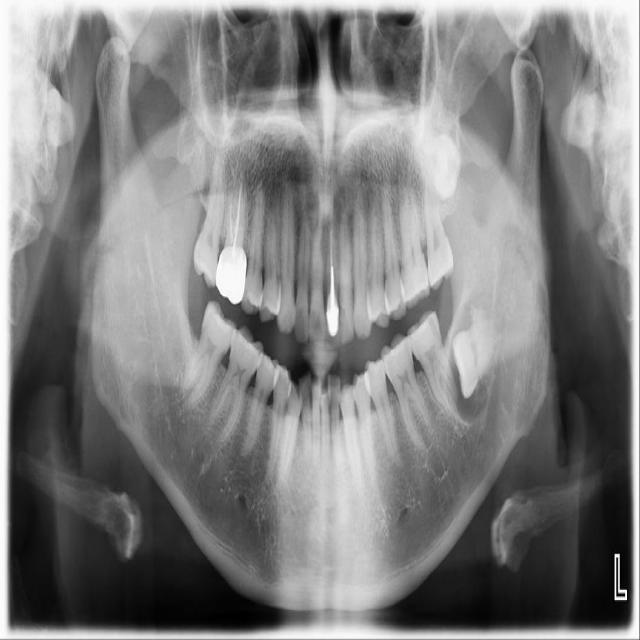52: (213, 246, 250, 304), (325, 294, 340, 347)
73: (223, 173, 252, 252), (325, 226, 338, 301), (610, 557, 616, 568)
BioHorizons Implant: (420, 166, 455, 292)
BioLife Implant: (409, 121, 477, 205)
Biomet 3i Implant: (447, 318, 512, 400)
Blue Sky Bio Implant: (401, 307, 465, 425)
Caries: (190, 158, 229, 289)
Implant: (177, 299, 243, 412)
